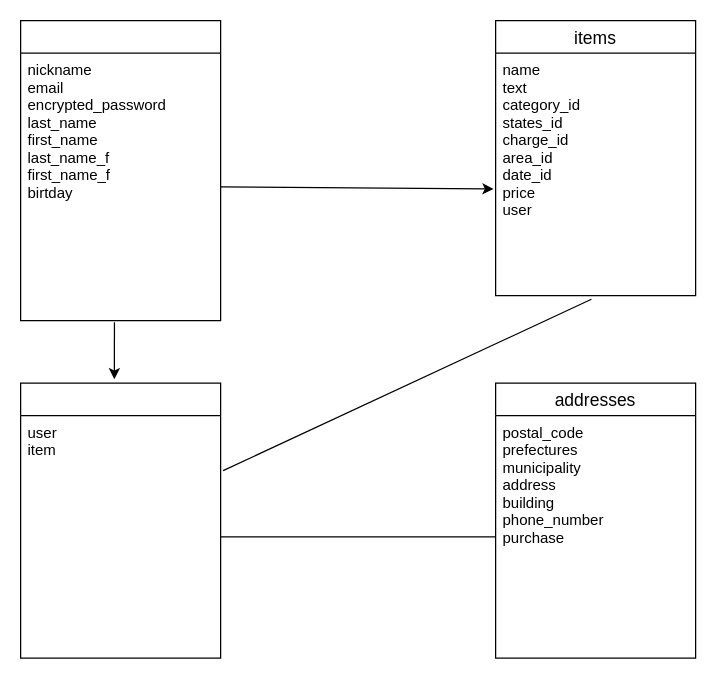
Some shapes in this 716 by 679 pixel diagram are drawn without their labels. The shapes that lost their labels are listed below. From the top down, each one's box as (x1, y1, x2, y2) in pixels, then its label:
(19, 19, 221, 321): users
(19, 382, 221, 658): purchases
